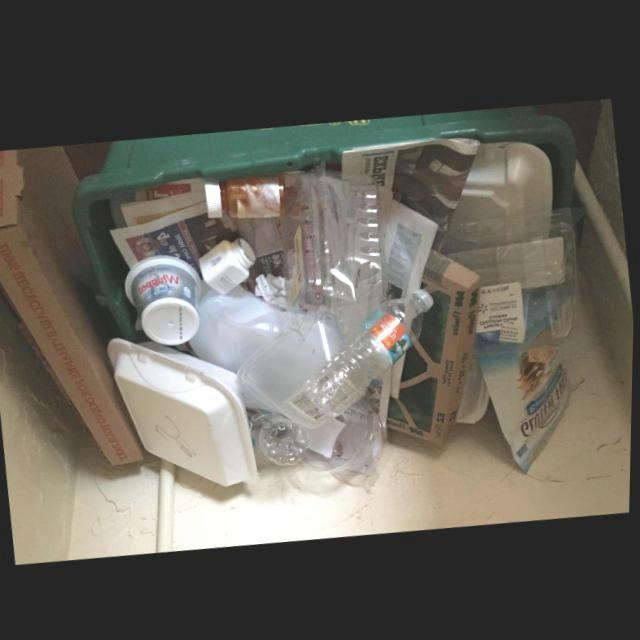cardboard: (0, 145, 146, 464)
food_wrapper: (480, 340, 573, 469)
plastic_bottle: (306, 285, 435, 415), (248, 406, 309, 463)
plastic_container: (447, 202, 578, 351), (126, 254, 202, 344), (200, 235, 257, 293)
